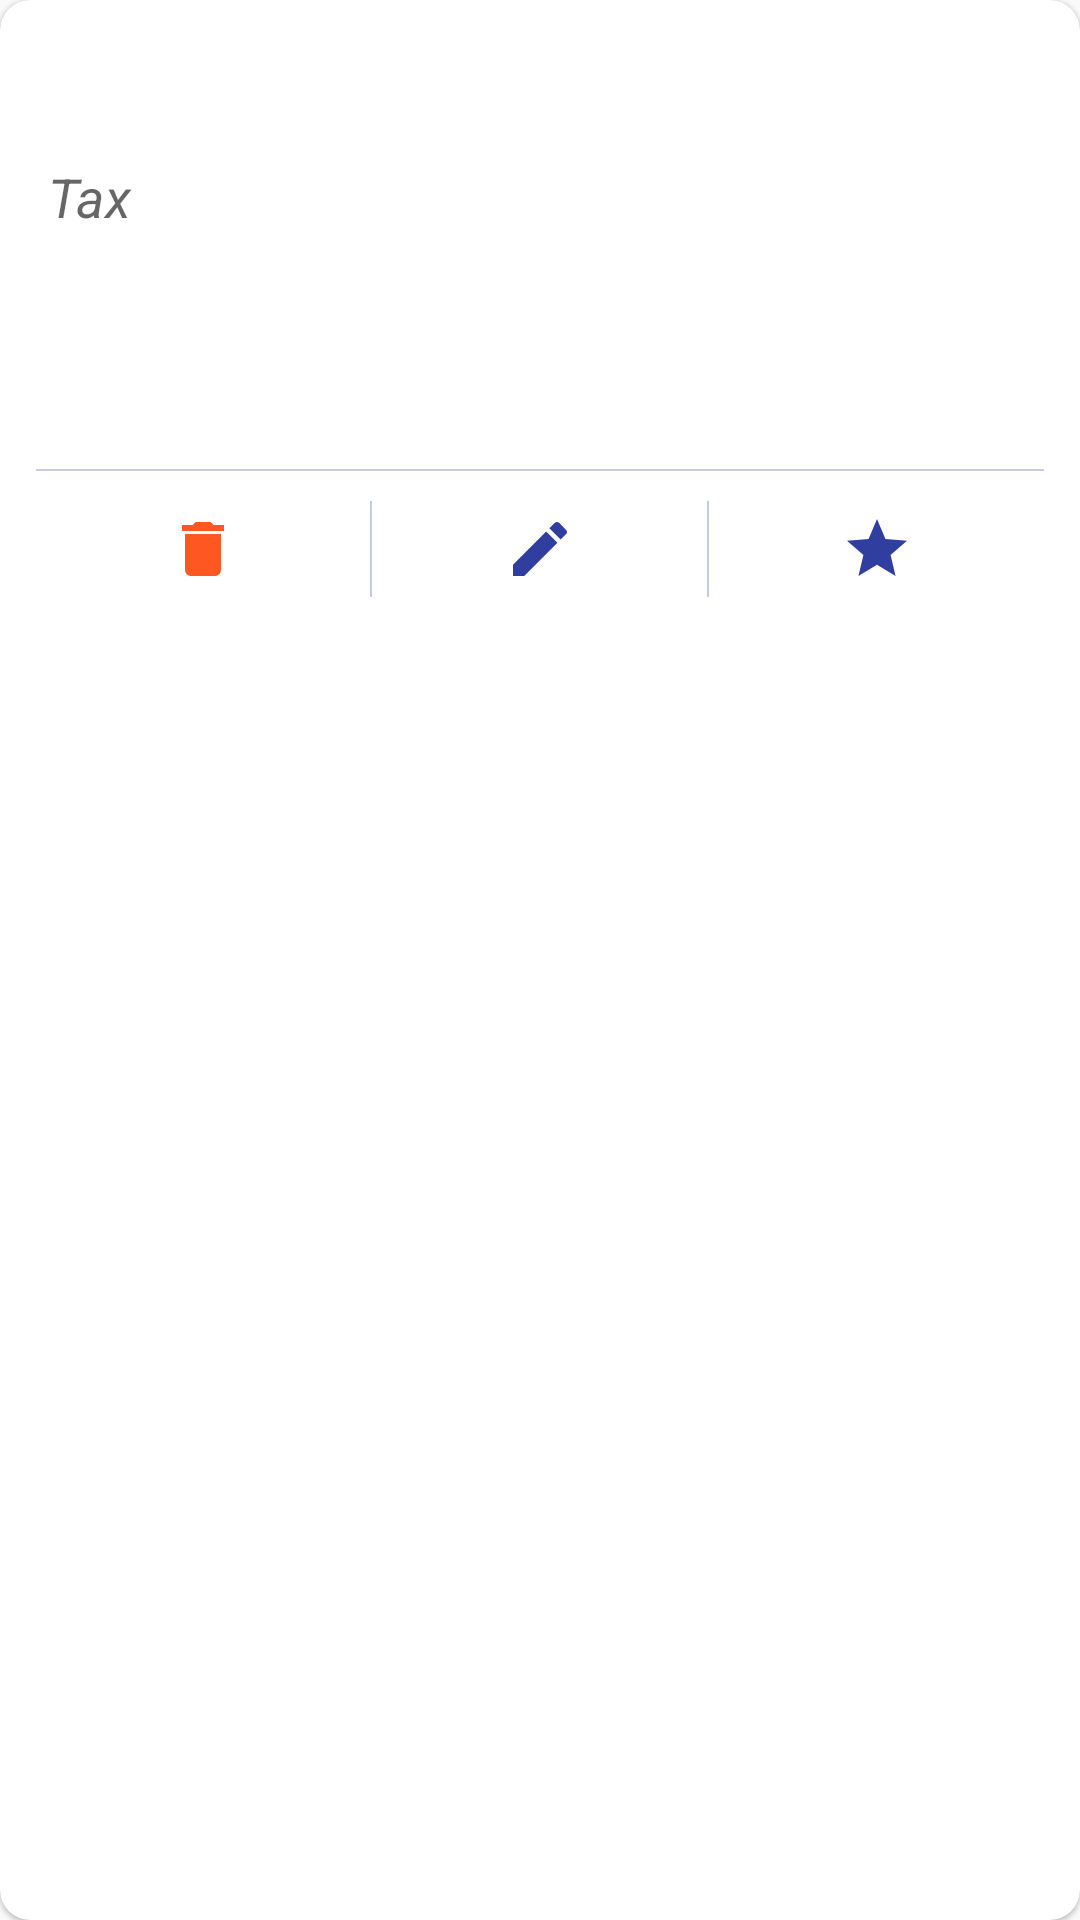

Screen size 1080px×1920px. Icon name, then its box in pixels as (x1, y1, x2, y2):
delete: (182, 522, 224, 576)
pencil: (513, 522, 567, 576)
star full: (847, 519, 907, 576)
